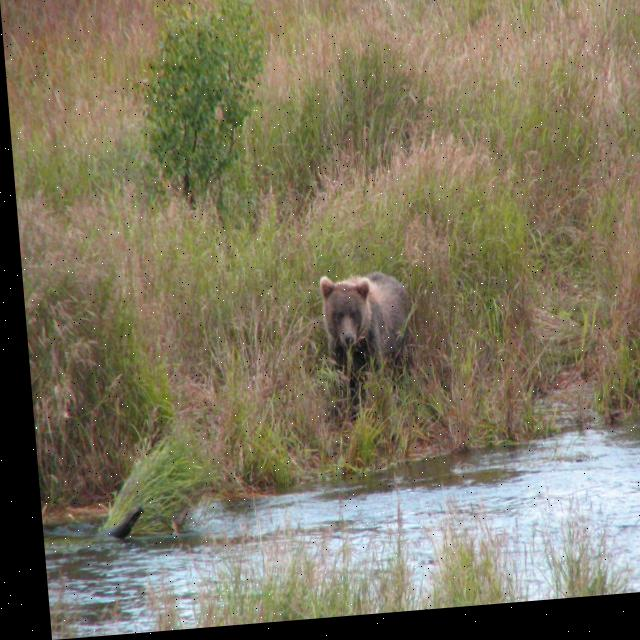bear face: (315, 273, 406, 383)
